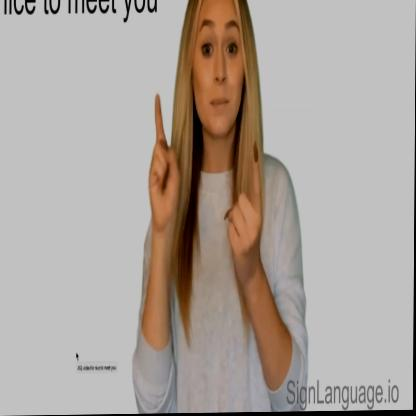NiceToMeetYou: (138, 90, 263, 313)
